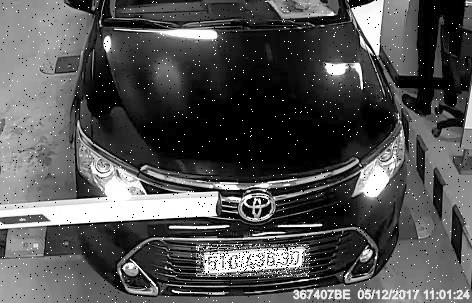License-plate: (198, 245, 312, 278)
